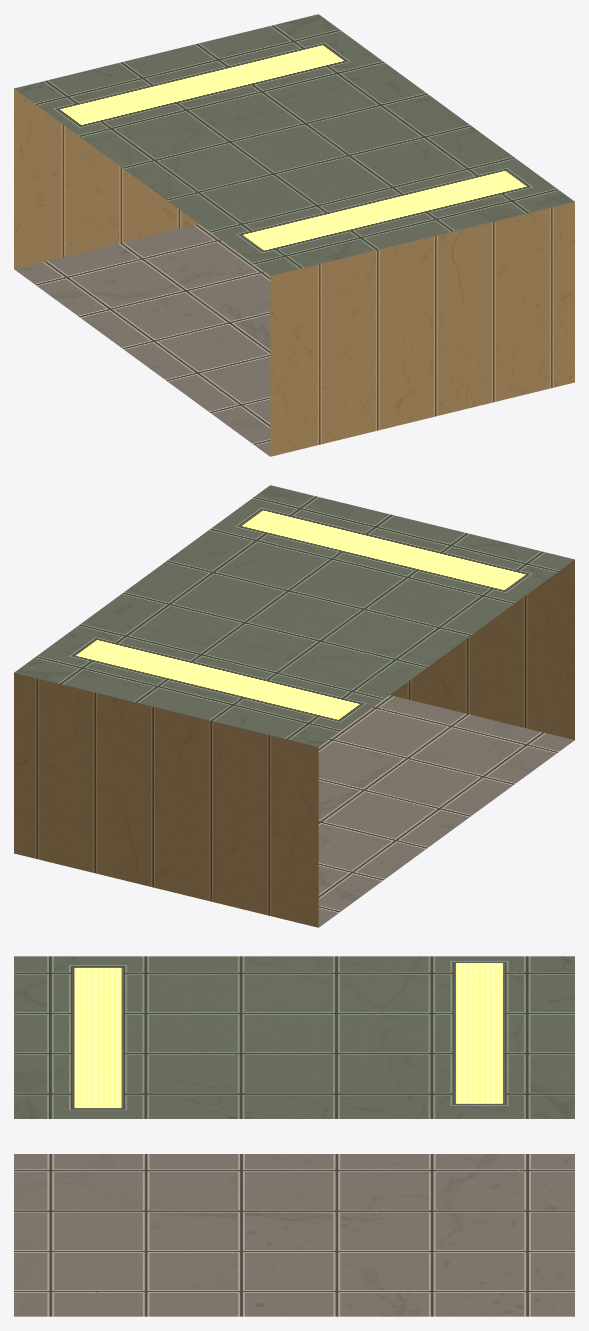
The model's file is Paredes Amarelas.glb.
3 views of the same model, one above another, from view 1: azimuth 30°, elevation 25°; view 2: azimuth 150°, elevation 25°; view 3: azimuth 270°, elevation 25° (orthographic). The views are drawn at different scales.
Visible parts, largest first — view 1: Paredes Amarelas; view 2: Paredes Amarelas; view 3: Paredes Amarelas.
Boxes of the visible parts, <box> form: Paredes Amarelas: <box>14,14,574,456</box>; Paredes Amarelas: <box>14,485,574,927</box>; Paredes Amarelas: <box>14,956,574,1316</box>.
Size of the model in its own units: 6 by 3.4 by 8.74.
Materials: 1 (1 with a texture image).
